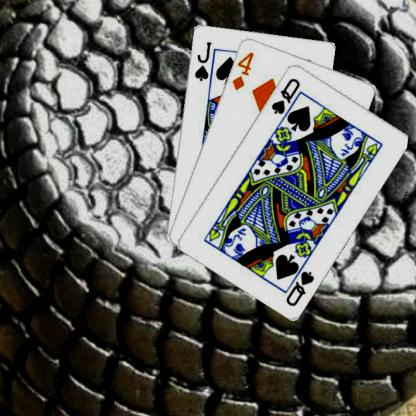4D: (229, 49, 255, 91)
JS: (192, 39, 212, 82)
QS: (268, 75, 302, 115), (282, 268, 316, 308)
